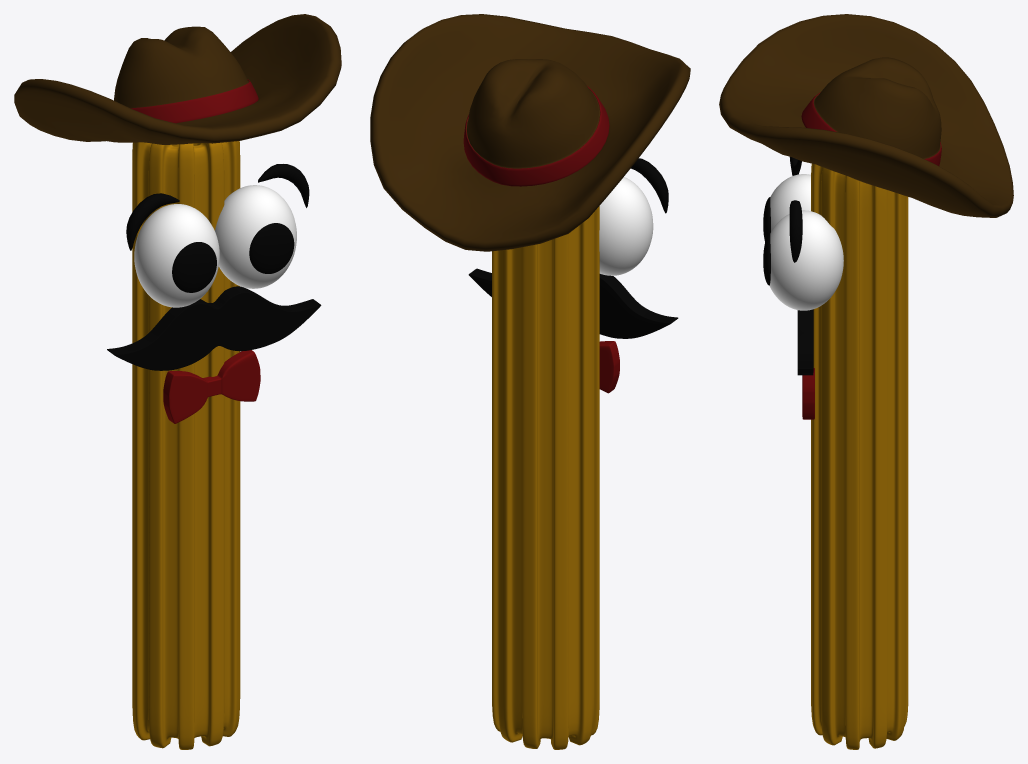
The model's file is churro.glb.
3 views of the same model, side by side, from view 1: azimuth 30°, elevation 25°; view 2: azimuth 150°, elevation 25°; view 3: azimuth 270°, elevation 25° (orthographic). The views are drawn at different scales.
Parts seen in each view (by area): view 1: Object_5, Object_4, Object_7, Object_8, Object_2, Object_3, Object_6; view 2: Object_5, Object_4, Object_8, Object_7, Object_3, Object_2, Object_6; view 3: Object_5, Object_4, Object_8, Object_7, Object_6, Object_3, Object_2.
Boxes of the visible parts, x1,y1,x2,y2 form: Object_5: (132, 141, 240, 749); Object_4: (14, 14, 341, 144); Object_7: (107, 223, 321, 370); Object_8: (134, 185, 296, 307); Object_2: (163, 350, 260, 423); Object_3: (131, 79, 258, 123); Object_6: (126, 164, 309, 250); Object_5: (492, 206, 599, 749); Object_4: (370, 14, 690, 251); Object_8: (599, 177, 653, 275); Object_7: (468, 268, 678, 338); Object_3: (463, 86, 609, 186); Object_2: (599, 341, 619, 393); Object_6: (631, 158, 668, 213); Object_5: (811, 163, 908, 749); Object_4: (719, 14, 1013, 217); Object_8: (769, 174, 843, 310); Object_7: (763, 197, 813, 375); Object_6: (789, 157, 802, 262); Object_3: (801, 92, 941, 165); Object_2: (802, 368, 814, 419).
Size of the model in its own units: 6.75 by 16.02 by 6.46.
